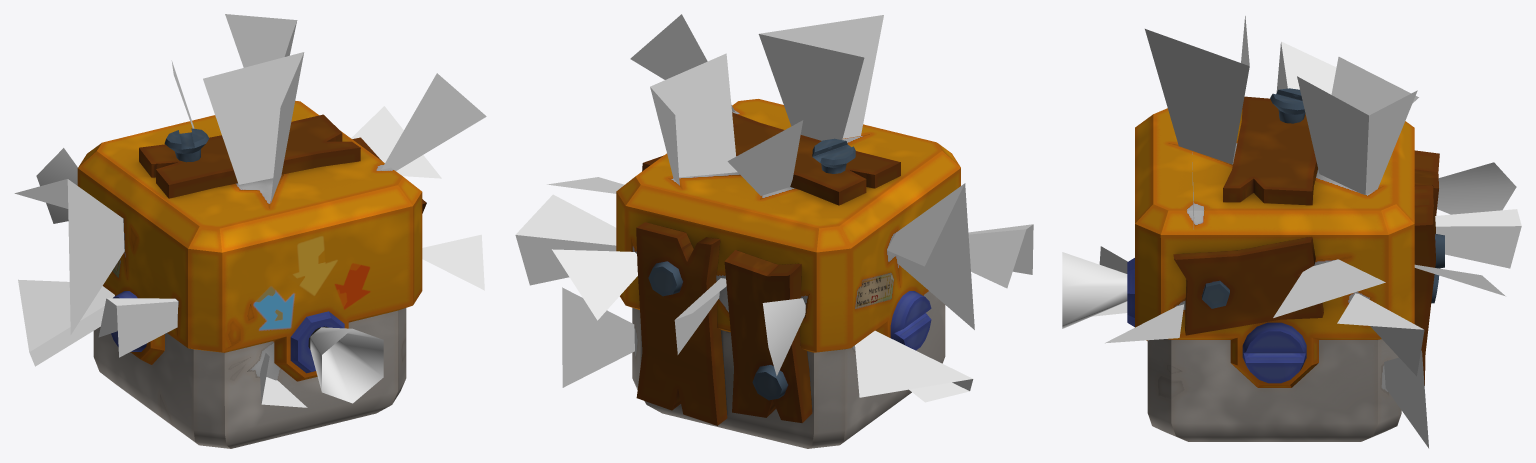
File: obj_factory_loot_lootcrate_01.fbx
3 renders of one model, left to right at view 1: azimuth 30°, elevation 25°; view 2: azimuth 150°, elevation 25°; view 3: azimuth 270°, elevation 25°, orthographic. The views are drawn at different scales.
Visible parts, largest first — view 1: obj_factory_loot_lootcrate_01_lp, Plane; view 2: obj_factory_loot_lootcrate_01_lp, Plane; view 3: obj_factory_loot_lootcrate_01_lp, Plane.
Boxes of the visible parts, x1,y1,x2,y2 form: obj_factory_loot_lootcrate_01_lp: (77,101,426,448); Plane: (14,14,486,407); obj_factory_loot_lootcrate_01_lp: (616,99,960,448); Plane: (515,14,1033,402); obj_factory_loot_lootcrate_01_lp: (1127,88,1444,441); Plane: (1062,16,1521,448).
Size of the model in its own units: 7.67 by 6.15 by 7.24.
